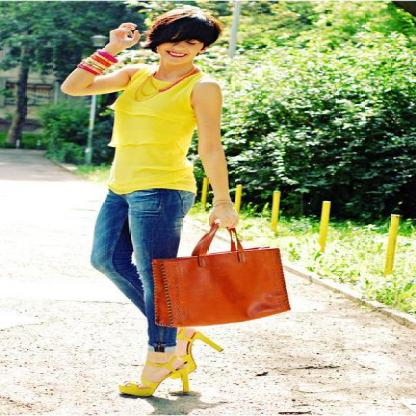bag: (152, 220, 290, 327)
pants: (90, 188, 196, 351)
shirt: (112, 68, 200, 190)
shoe: (118, 325, 222, 399)
